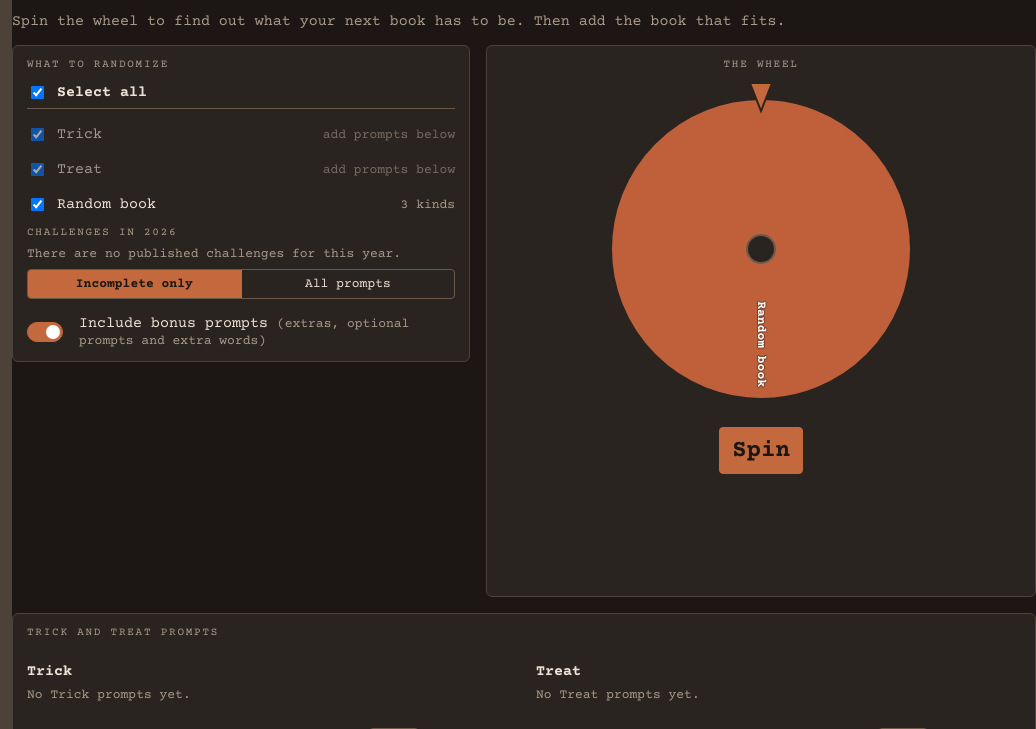
Test: the random book wedge › lands on a book and adds it to Up Next
The image size is (1036, 729).
Click the button "Spin". click: x=761, y=450
box: [719,427,803,474]
(page scrolled)
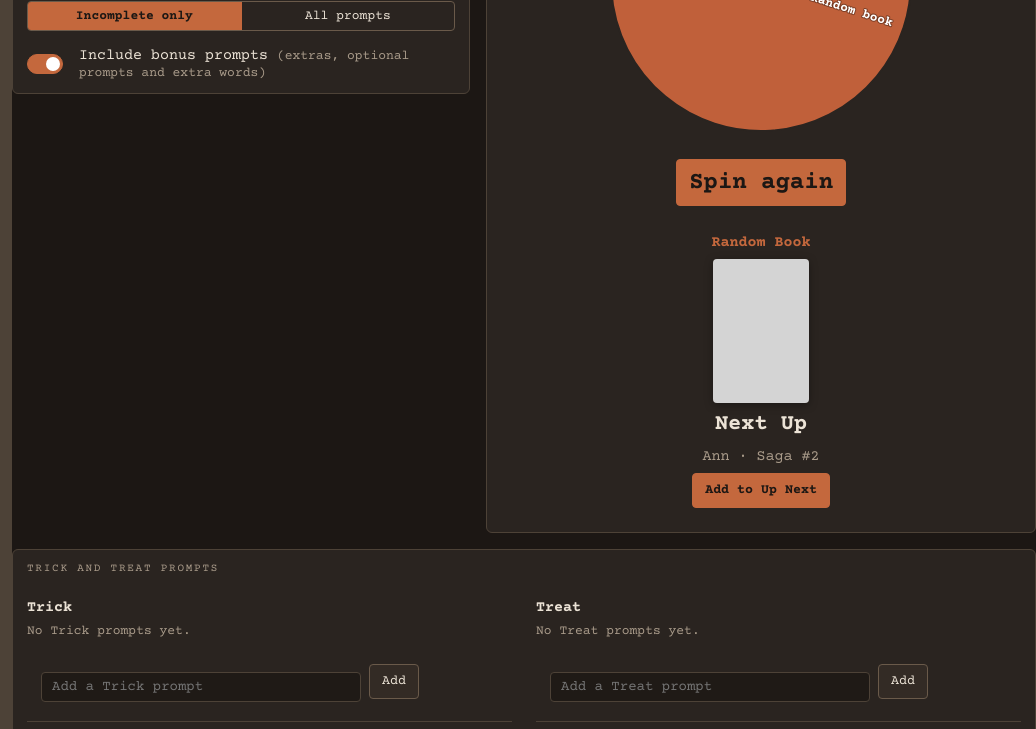
Expected: the text "Next Up" is shown, [715,411,807,440]
Click the button "Add to Up Next". click: x=761, y=490
box: [692,473,830,508]
(page scrolled)
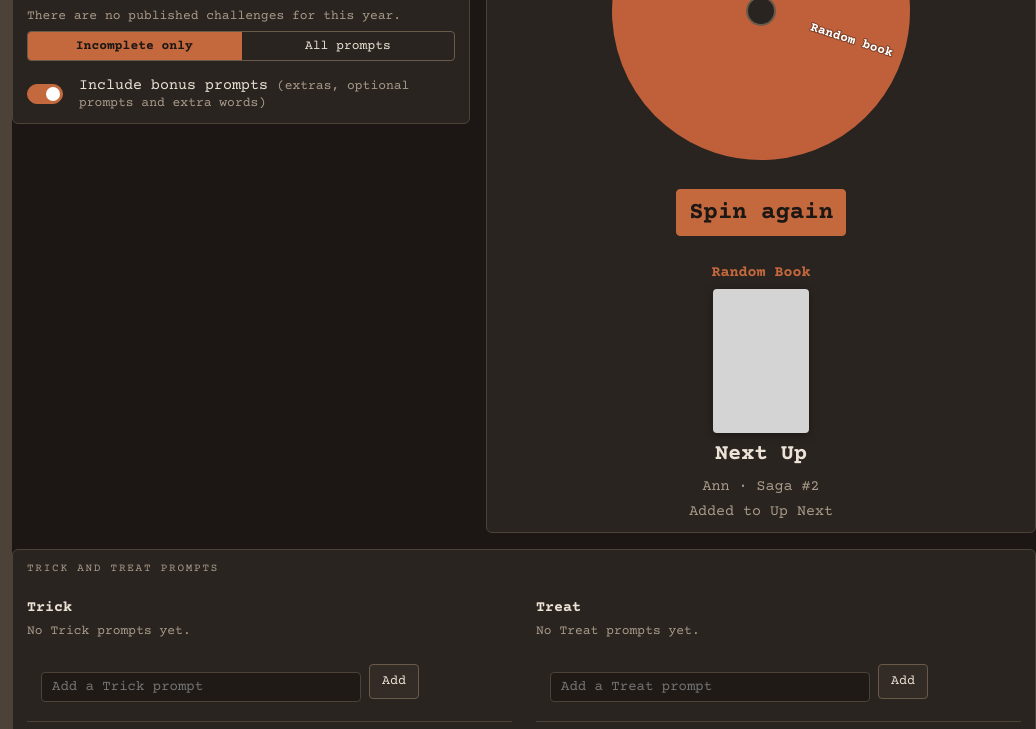
Expected: the text "Added to Up Next" is shown, [689,503,833,520]
